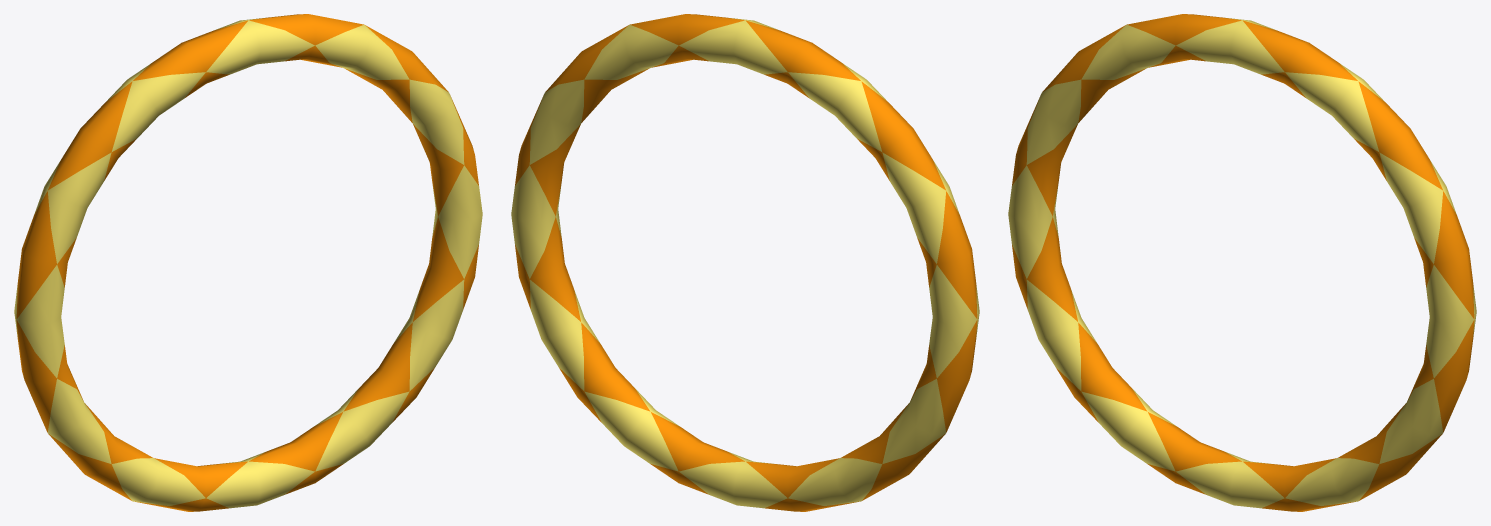
Rendered from D_FBX_14_Ring_A.fbx.
3 renders of one model, left to right at view 1: azimuth 30°, elevation 25°; view 2: azimuth 150°, elevation 25°; view 3: azimuth 330°, elevation 25°, orthographic.
Parts seen in each view (by area): view 1: D_FBX_14_Ring_A; view 2: D_FBX_14_Ring_A; view 3: D_FBX_14_Ring_A.
Boxes of the visible parts, left/top/right/bottom form: D_FBX_14_Ring_A: left=14, top=14, right=482, bottom=511; D_FBX_14_Ring_A: left=511, top=14, right=979, bottom=511; D_FBX_14_Ring_A: left=1008, top=14, right=1476, bottom=511.
Size of the model in its own units: 220 by 220 by 20.
